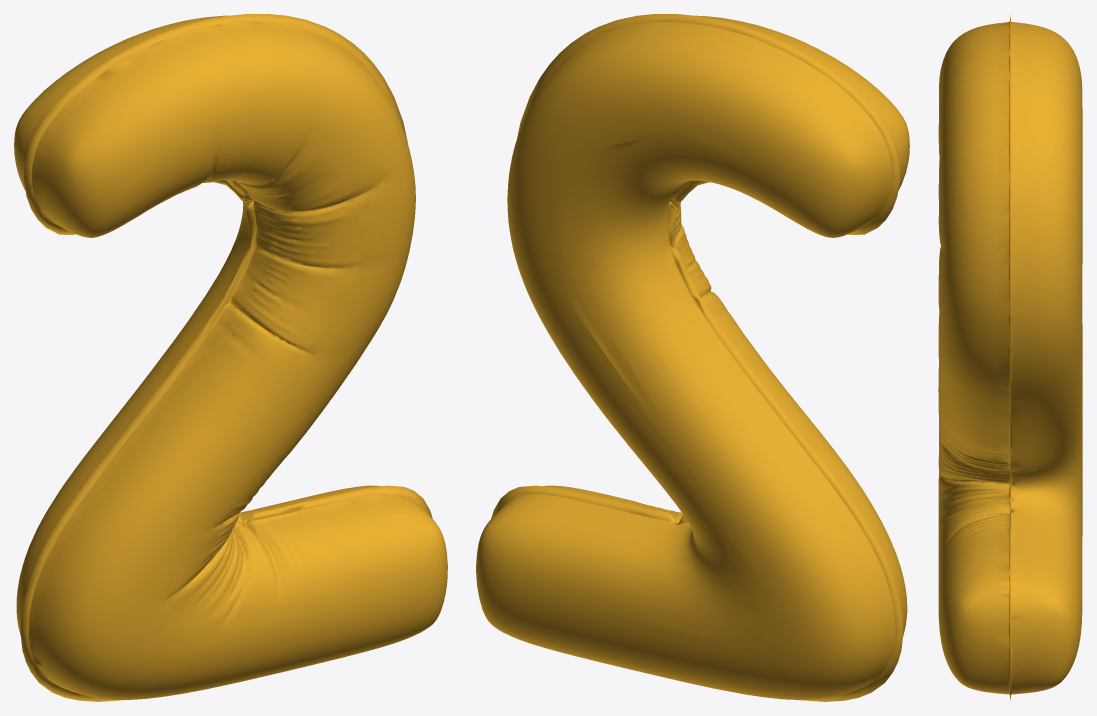
Rendered from zahlen-gold-nr2-gruppe.glb.
3 views of the same model, side by side, from view 1: azimuth 30°, elevation 25°; view 2: azimuth 150°, elevation 25°; view 3: azimuth 270°, elevation 25° (orthographic). The views are drawn at different scales.
Parts seen in each view (by area): view 1: nr2; view 2: nr2; view 3: nr2.
Part boxes in pixels (<box>): nr2: <box>14,14,447,701</box>; nr2: <box>476,14,909,701</box>; nr2: <box>938,15,1082,700</box>.
Bounding box in the file's own units: 0.4137 × 0.6344 × 0.1414.
